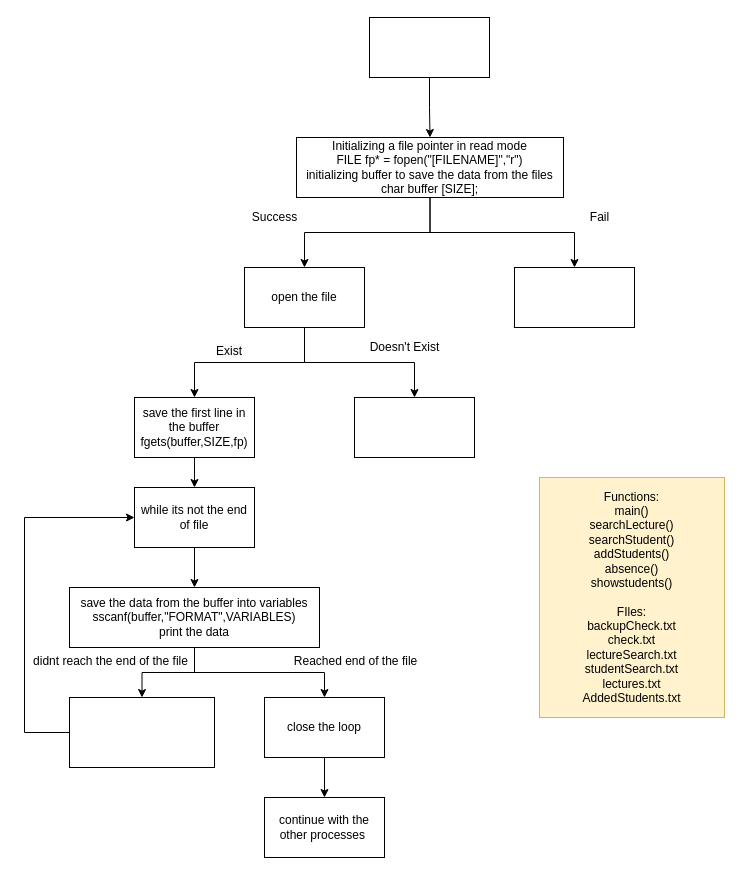
The diagram is 742 pixels wide and 875 high, and some of its shapes have lost their labels. The shapes that lost their labels are listed below. From the top down, each one's centre as x and y in pixels, then its label:
the point at 429,47: Calling the Function
the point at 574,297: Print error message exit
the point at 414,427: Print error message exit()
the point at 141,732: keep getting data from the file and save it in the buffer fgets(buffer,SIZE,fp)
